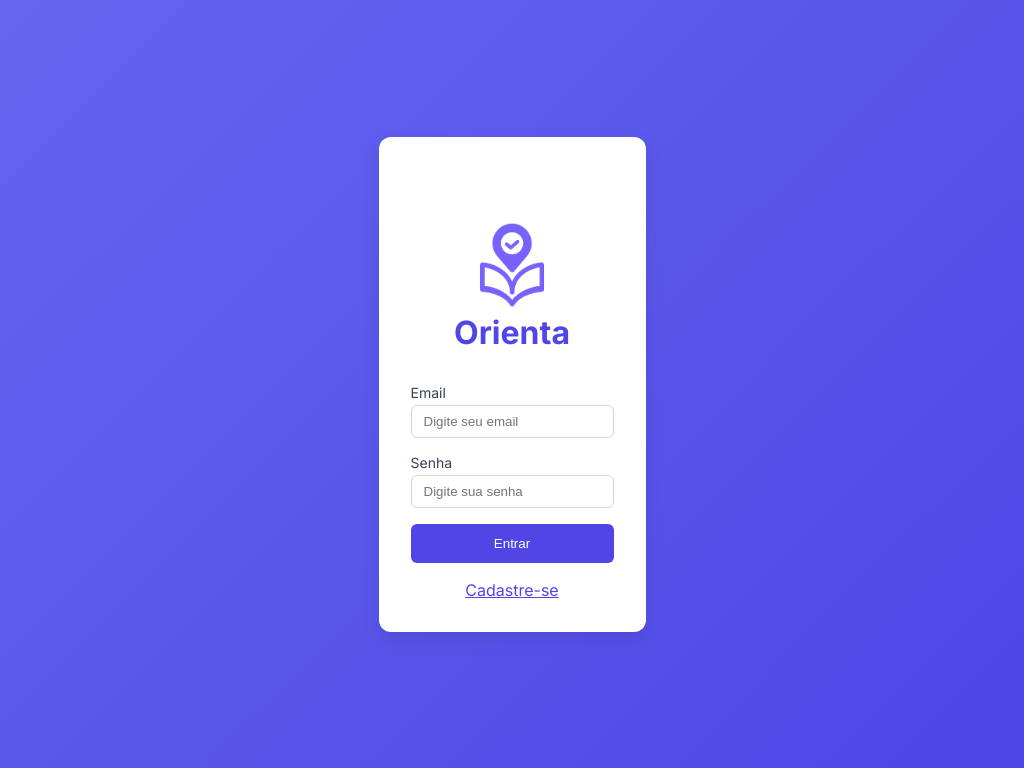
Test: Login page › shows error with invalid credentials
Step 1. Type "foo@test.com" into the field with placeholder "Digite seu email" → {"x": 512, "y": 421}, box [410,404,614,438]
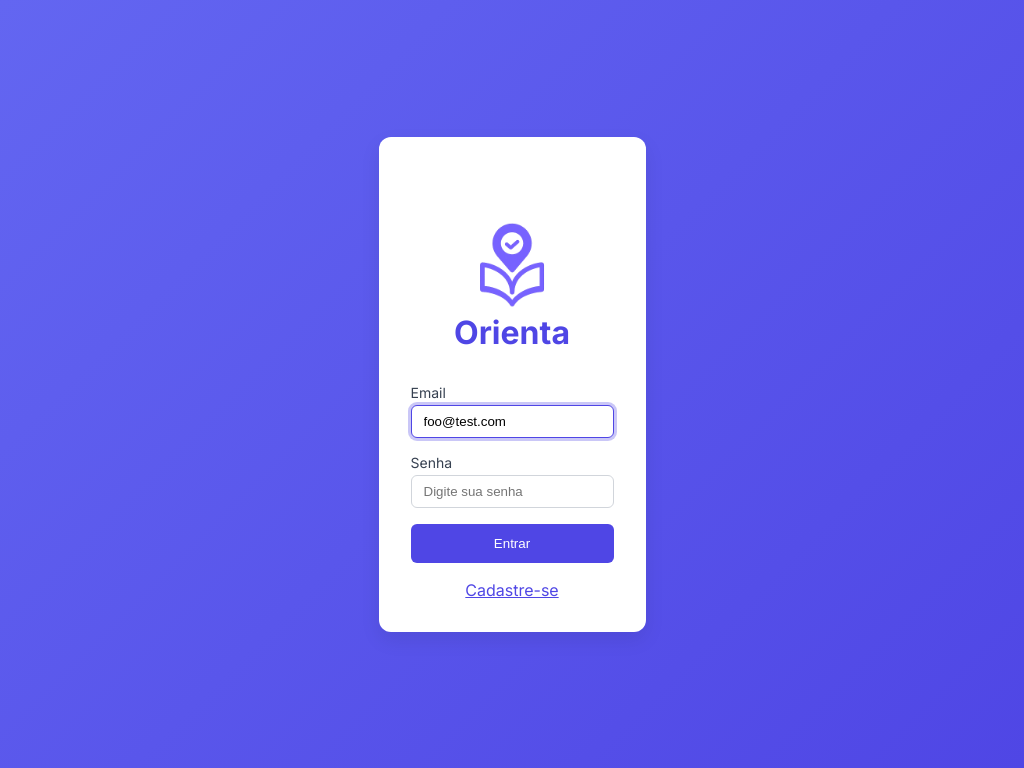
Step 2. Type "bar" into the password field with placeholder "Digite sua senha" → {"x": 512, "y": 491}, box [410,474,614,508]
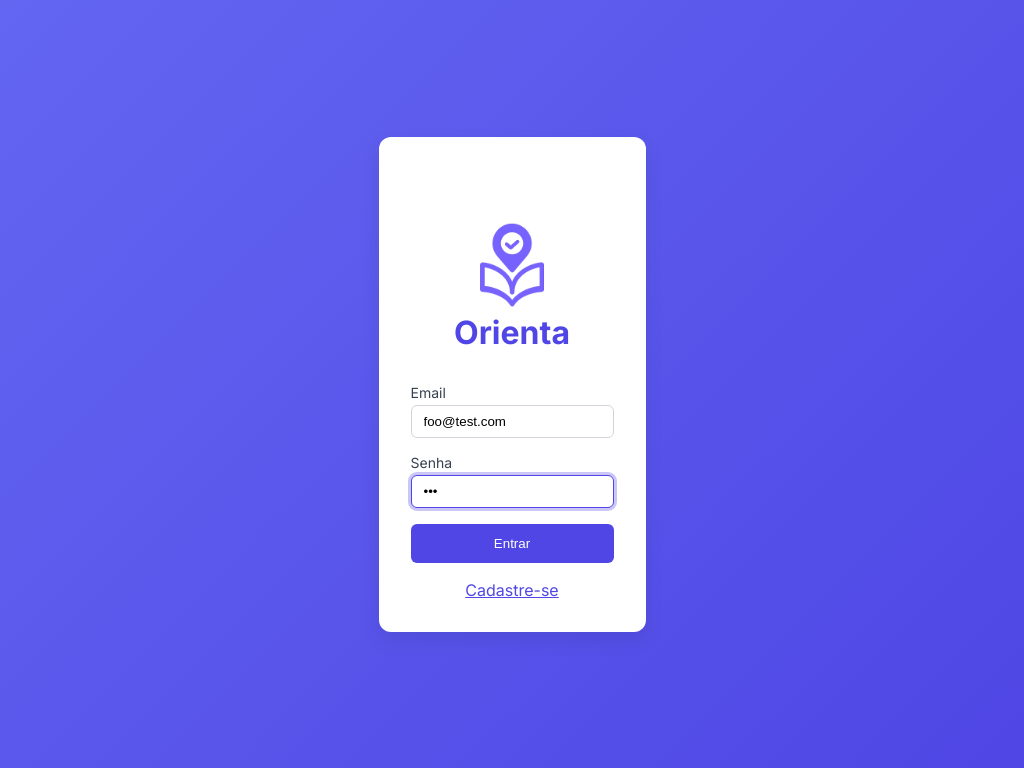
Step 3. Click the button "Entrar" → {"x": 512, "y": 543}, box [410,524,614,562]
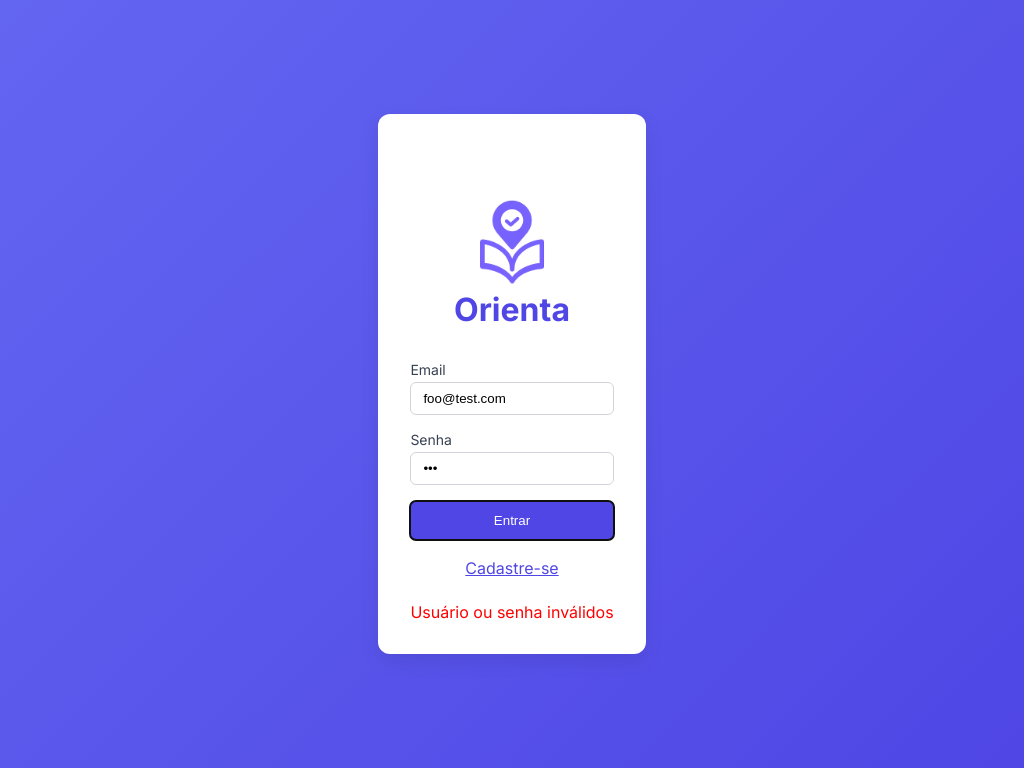
Check: the text "Usuário ou senha inválidos" is shown, box [410,602,614,622]
